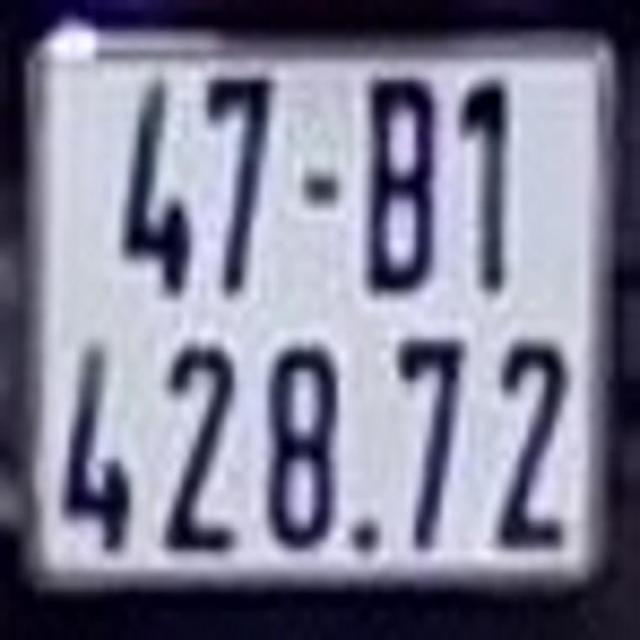1: (460, 84, 514, 286)
2: (499, 328, 568, 551), (168, 326, 236, 548)
4: (126, 100, 203, 300), (68, 346, 134, 552)
7: (395, 337, 474, 552), (208, 67, 276, 290)
8: (271, 338, 333, 549)
B: (372, 72, 439, 286)
